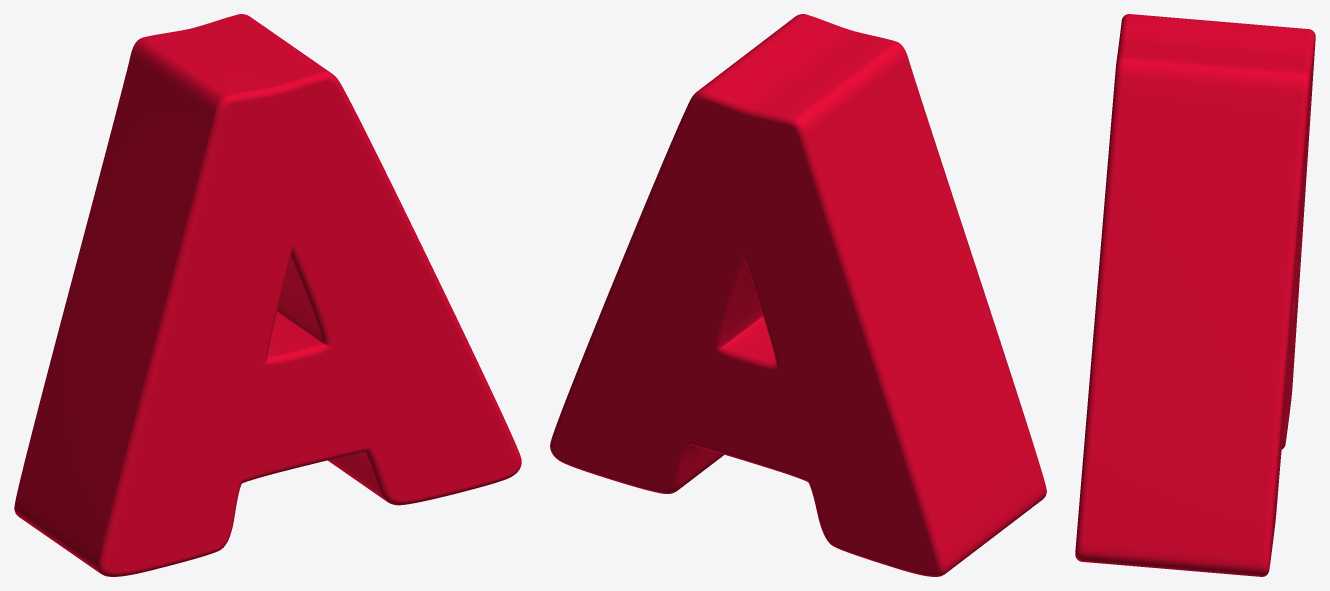
The picture shows the model from 3 angles, left to right: view 1: azimuth 30°, elevation 25°; view 2: azimuth 150°, elevation 25°; view 3: azimuth 270°, elevation 25°; orthographic projection.
Parts seen in each view (by area): view 1: A; view 2: A; view 3: A.
Boxes of the visible parts, left/top/right/bottom form: A: left=14, top=14, right=521, bottom=576; A: left=550, top=14, right=1046, bottom=576; A: left=1075, top=14, right=1315, bottom=576.
Bounding box in the file's own units: 63.94 × 66.47 × 32.11.
